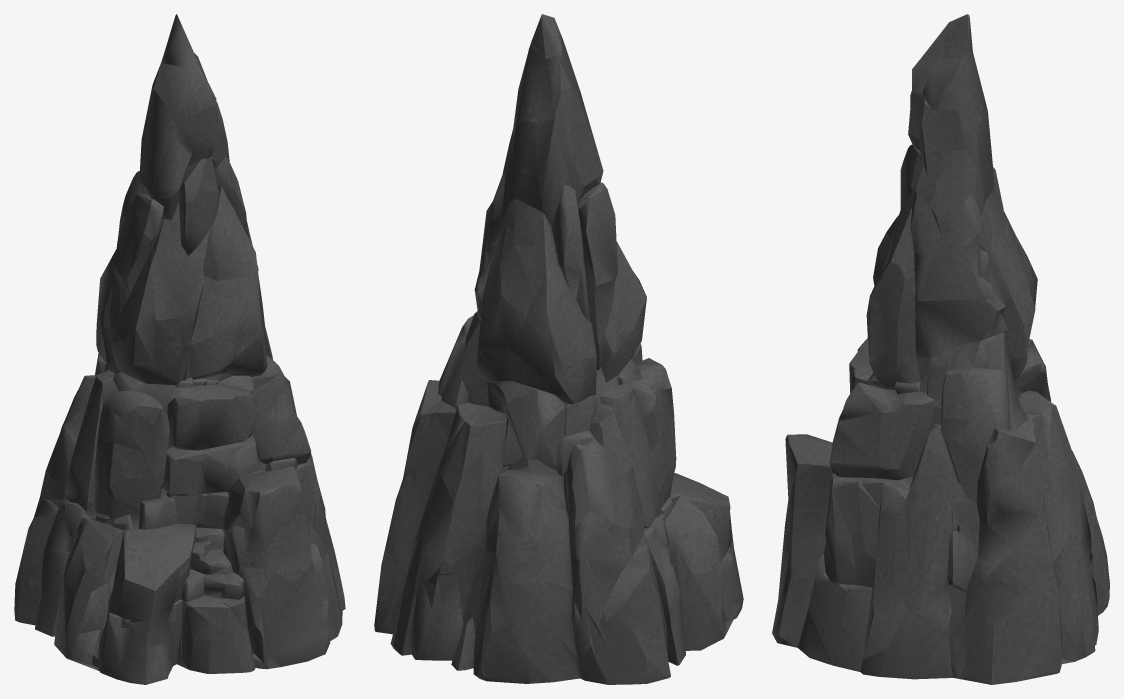
File: p_rock2.glb
3 renders of one model, left to right at view 1: azimuth 30°, elevation 25°; view 2: azimuth 150°, elevation 25°; view 3: azimuth 270°, elevation 25°, orthographic. The views are drawn at different scales.
Parts seen in each view (by area): view 1: mesh_0; view 2: mesh_0; view 3: mesh_0.
Boxes of the visible parts, box(x1,y1,x2,y2) form: mesh_0: box(14, 14, 345, 684); mesh_0: box(374, 14, 743, 684); mesh_0: box(772, 14, 1109, 684).
Size of the model in its own units: 0.954 by 1.9 by 0.968.
Materials: 1 (1 with a texture image).
